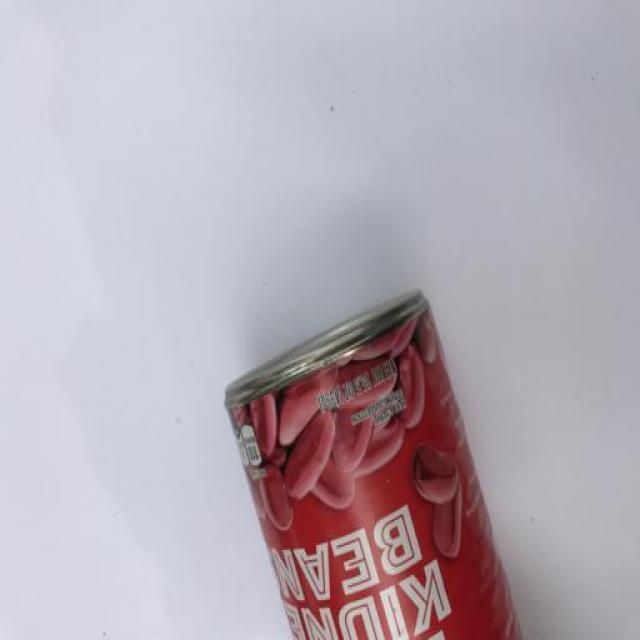metel: (231, 349, 529, 640)
